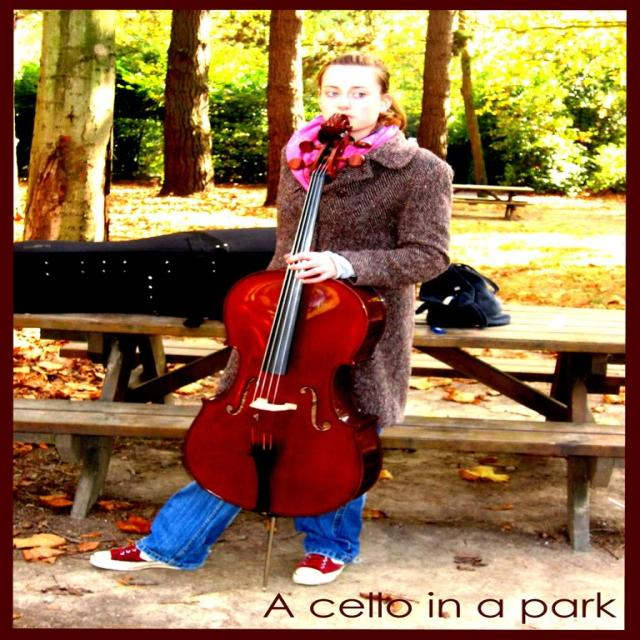cello: (176, 111, 391, 526)
